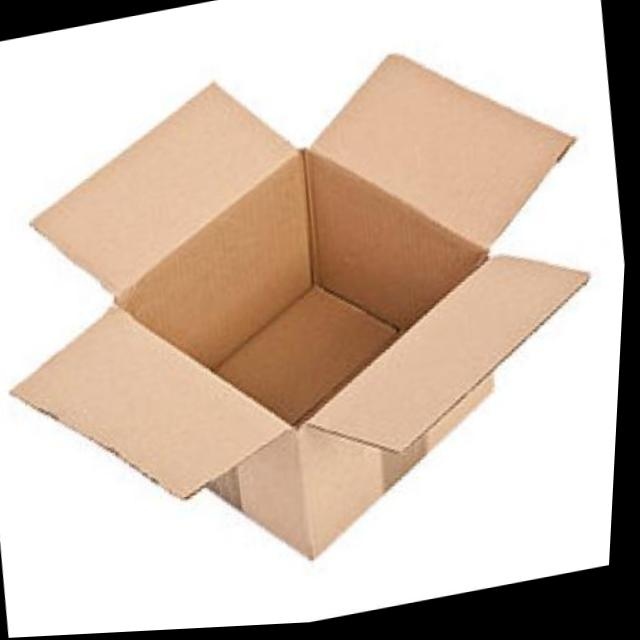box: (0, 9, 639, 623)
